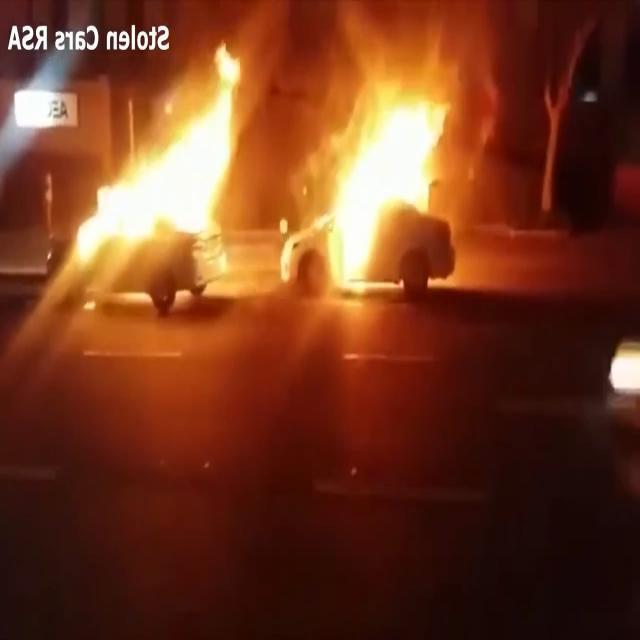fire: (77, 42, 242, 264), (325, 74, 450, 294)
